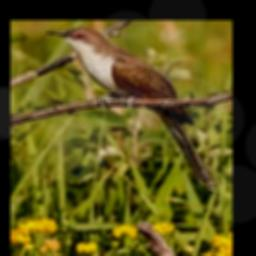Cuckoo: (45, 28, 218, 190)
